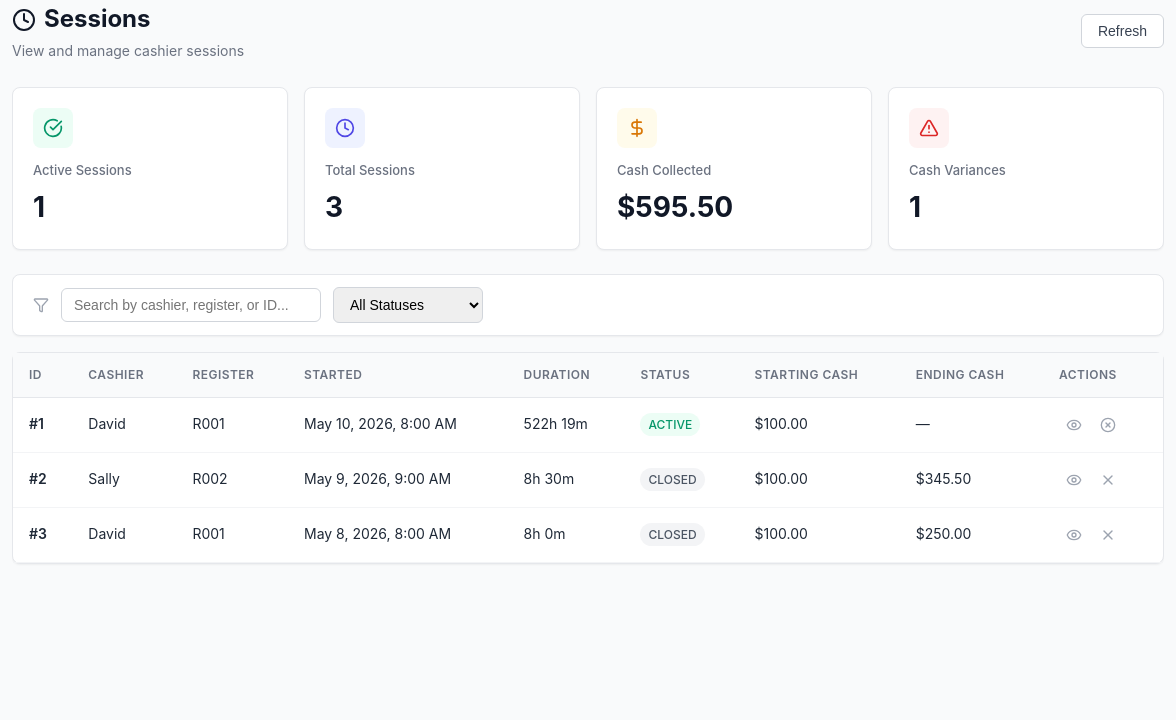
it: Sessions › filters sessions by search text
Expected: the text "Sally" is shown, [72,452,176,507]
In the field with placeholder "Search by cashier, register, or ID...": (191, 305) [61,288,321,322], type "Sally"
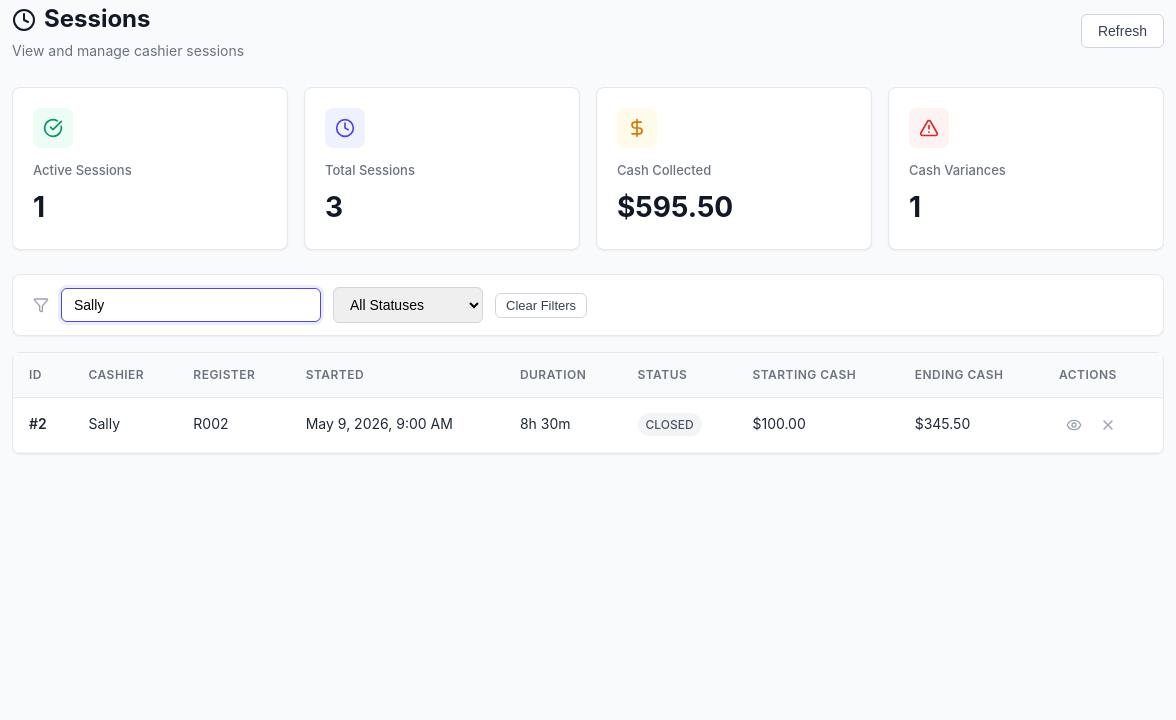
Expected: the text "Sally" is shown, [72,397,177,452]
Result: the text "R001" is gone
